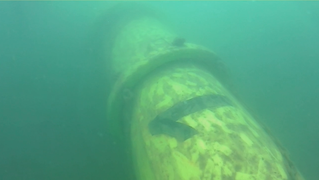1: (147, 93, 238, 143)
pipe: (92, 1, 303, 180)
